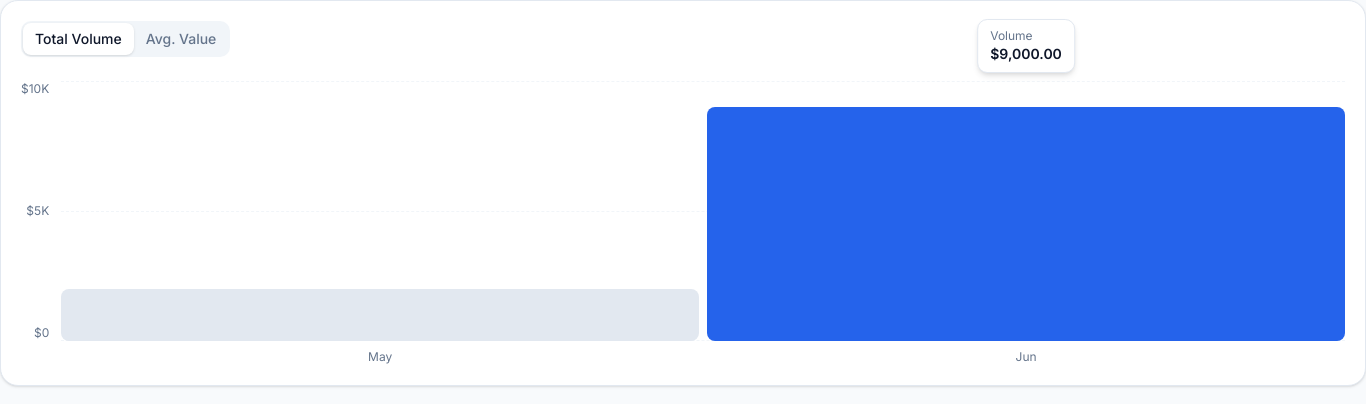
Scenario: MonthlyVolumeChart › switches the bars and tooltip to average order value
Click the tab "Avg. Value".
click(181, 39)  # box [134,23,228,55]
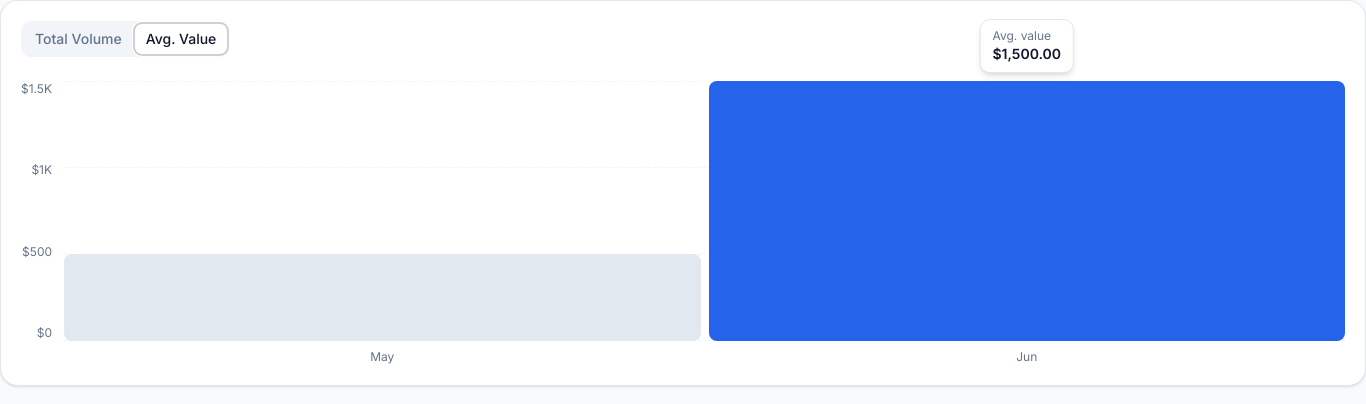
Now the text "Avg. value" is shown, box [992,28,1061,44]
Now the text "$1,500.00" is shown, box [992,44,1061,64]
